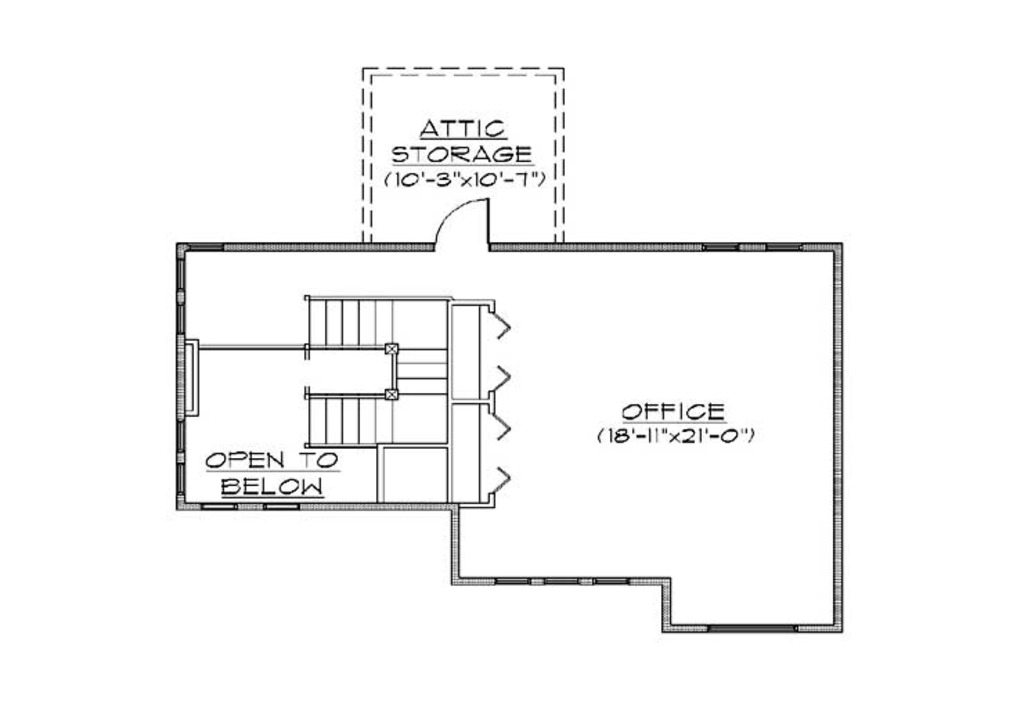door: (431, 188, 508, 261)
stairs: (293, 288, 445, 449)
window: (199, 488, 303, 512), (493, 574, 633, 591), (709, 234, 806, 258), (709, 621, 811, 636)
